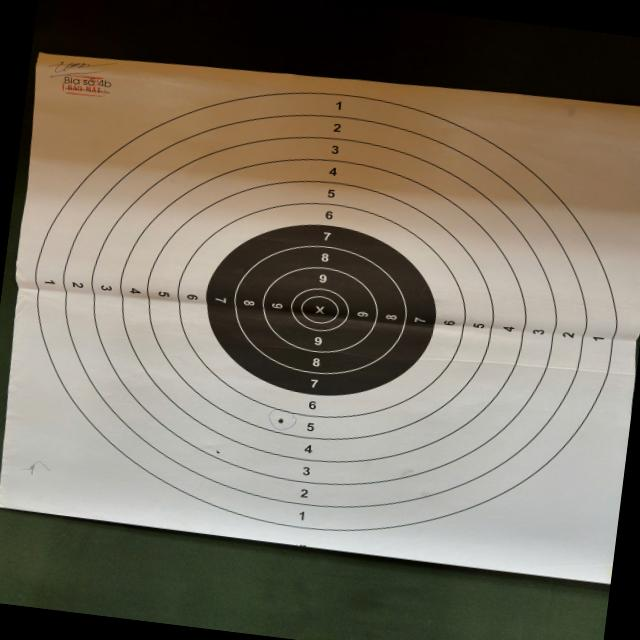bullet: (277, 418, 283, 423)
target: (0, 54, 640, 583)
